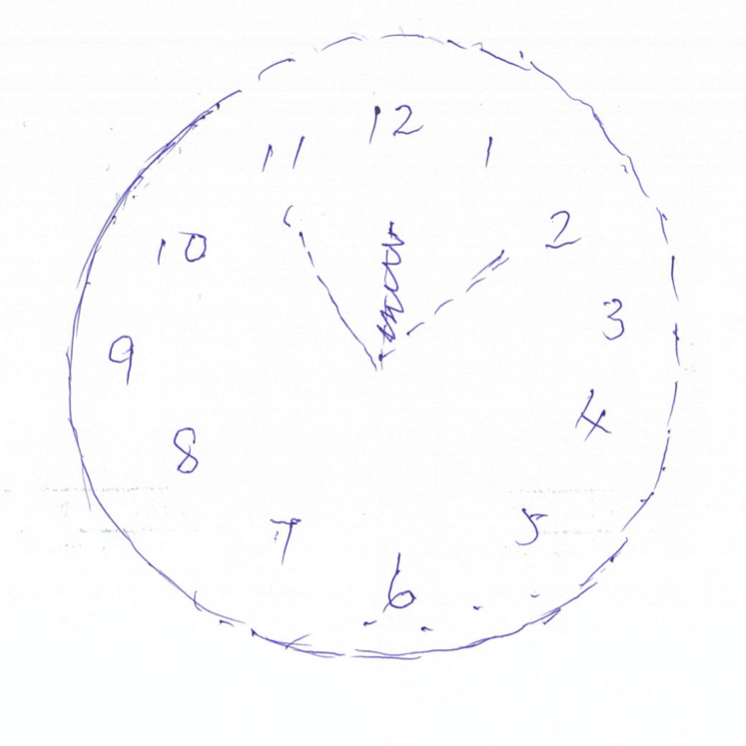1: (474, 133, 500, 173)
10: (148, 228, 211, 270)
11: (251, 131, 310, 175)
12: (365, 101, 427, 149)
2: (541, 207, 585, 256)
3: (595, 293, 631, 348)
4: (571, 386, 613, 446)
5: (513, 502, 549, 553)
6: (379, 545, 422, 616)
7: (264, 511, 302, 569)
8: (169, 418, 201, 481)
9: (103, 326, 140, 390)
contour: (61, 27, 692, 665)
